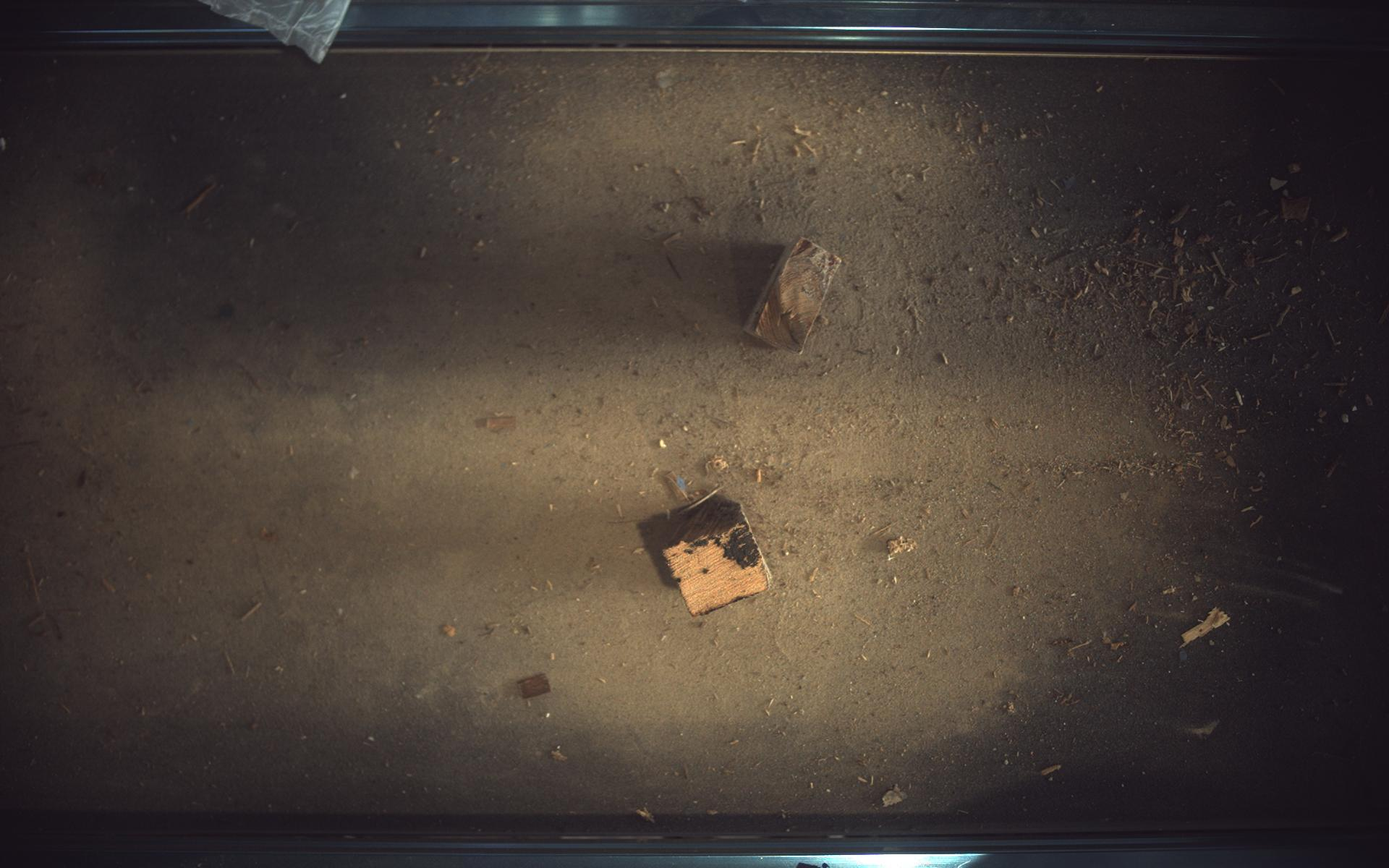wood: (640, 492, 773, 616), (745, 237, 843, 352)
